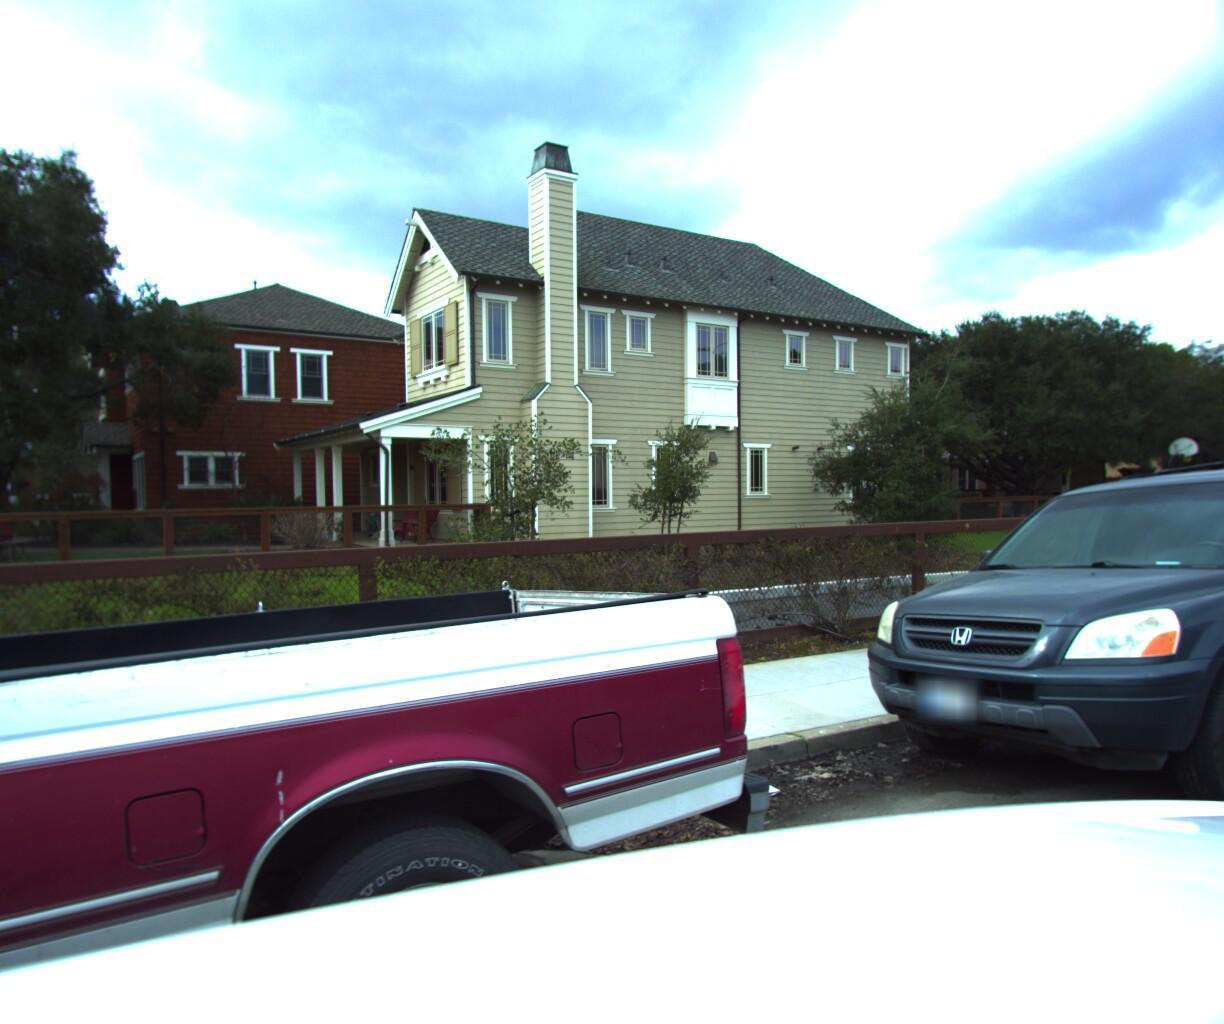car: (0, 0, 788, 1024), (822, 440, 1224, 874)
